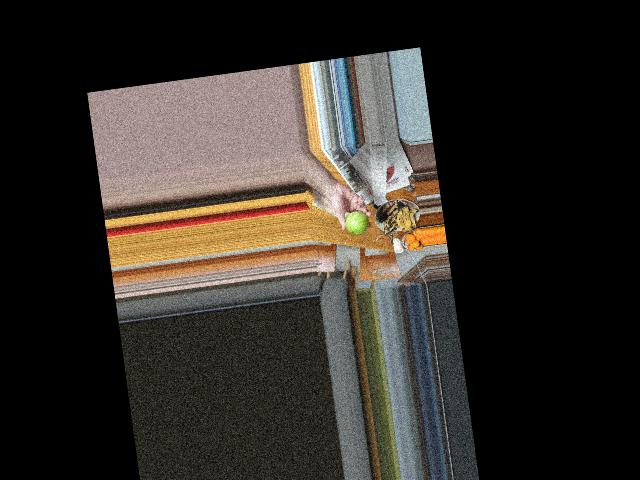apple: (343, 207, 371, 234)
